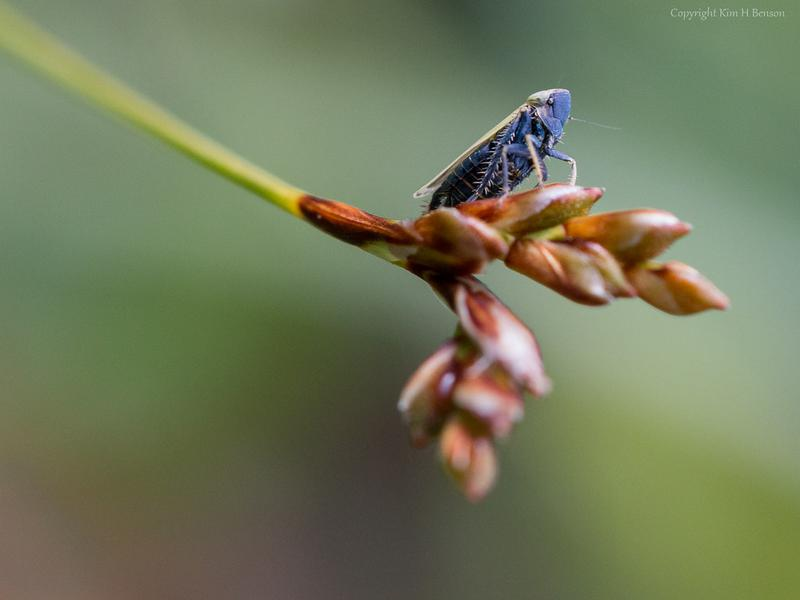Brown_plant_leafhopper: (397, 69, 588, 251)
